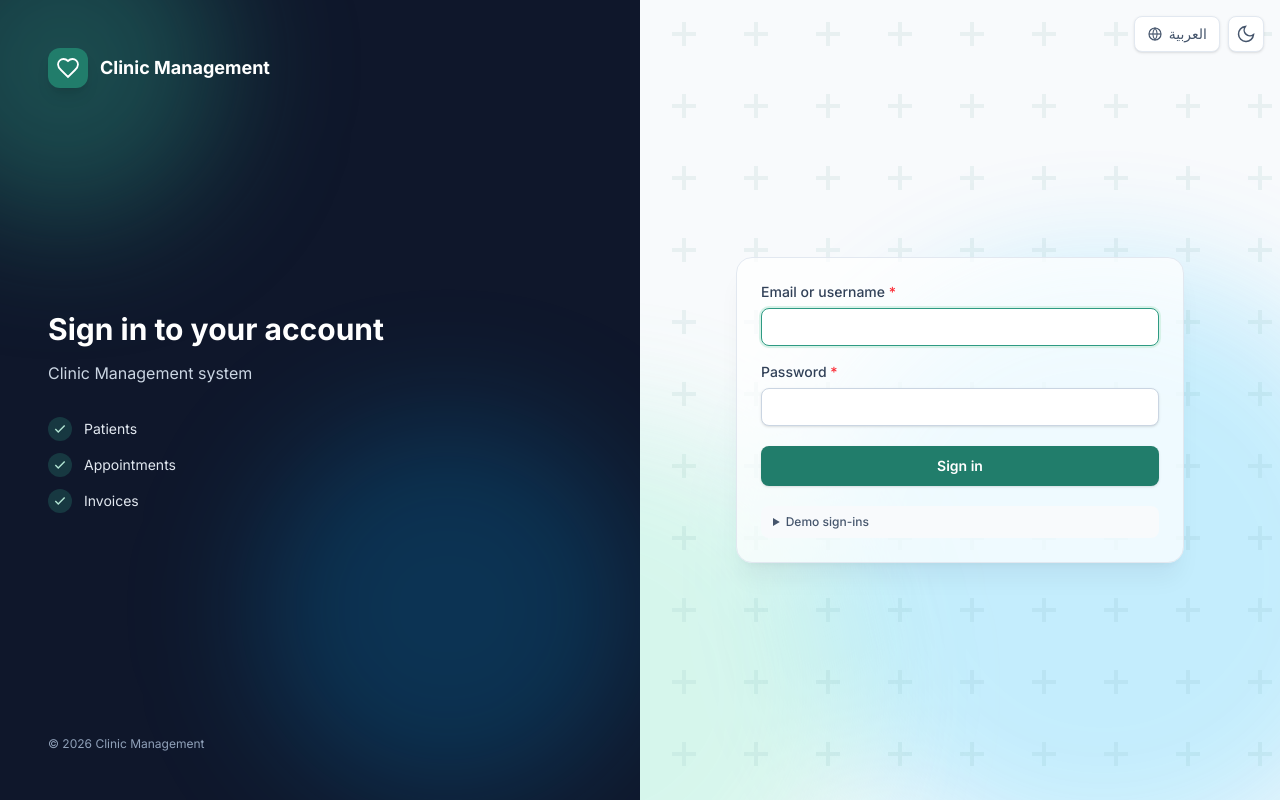
it: LoginPage › requires both credentials before submitting
Click the button "Sign in": x=960, y=466 [761,446,1159,486]
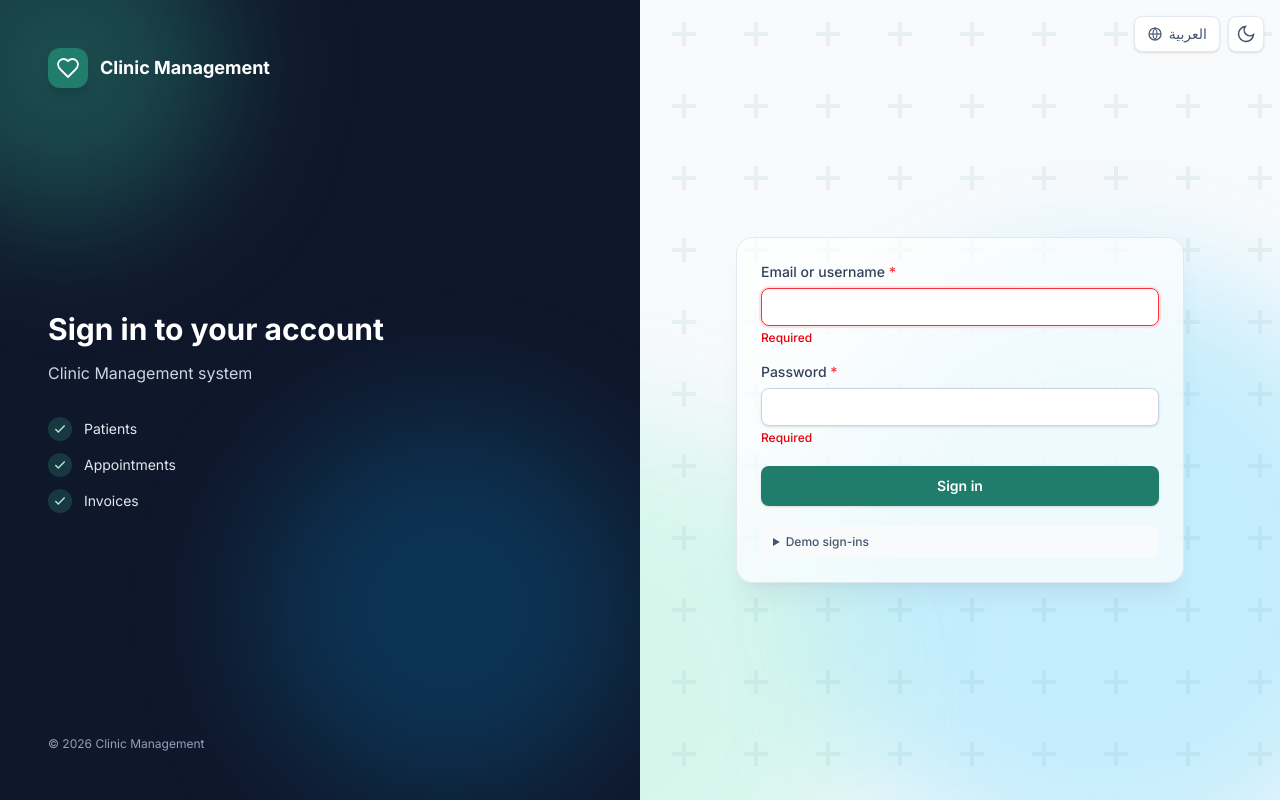
Check: the text "Required" is shown 2 times, box [761,330,812,345]; [761,430,812,445]
